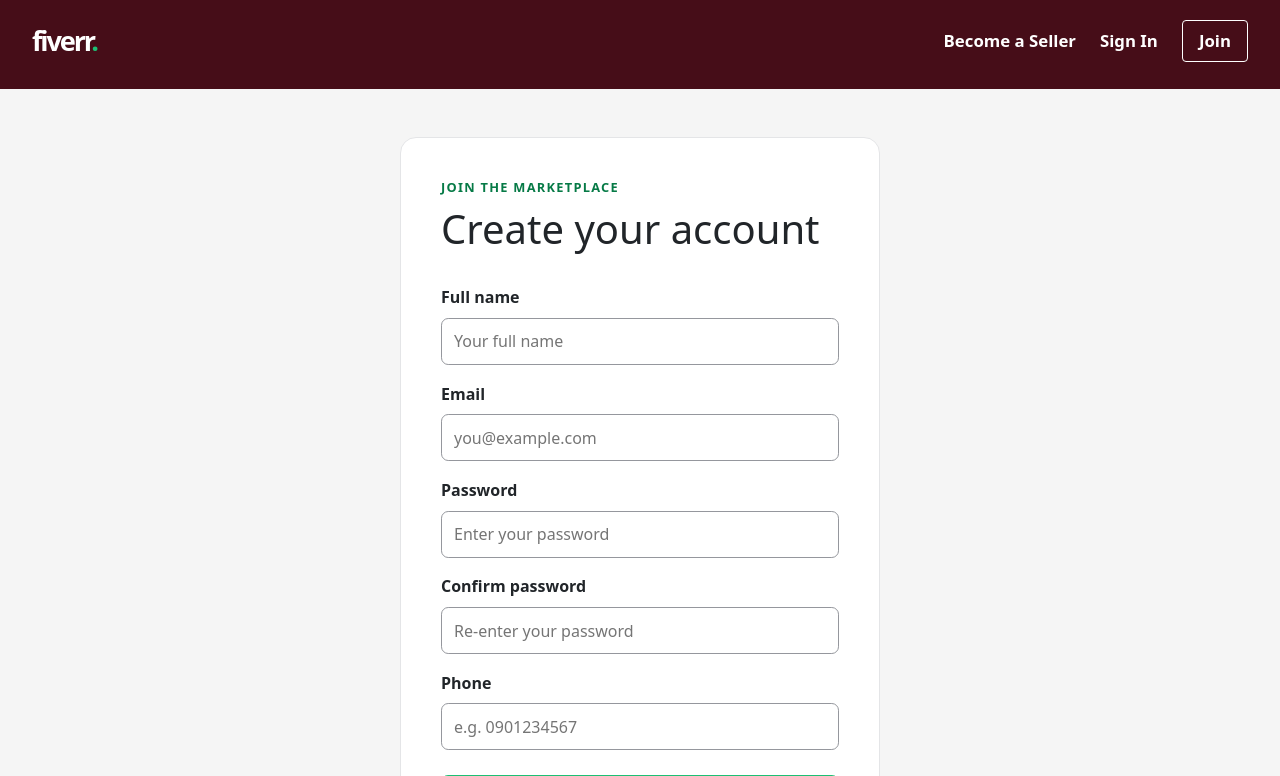
it: authentication routes › explains every invalid registration field and focuses the first one
Type "A" into the field labelled "Full name" at coordinates (640, 341), box x1=441 y1=318 x2=839 y2=365
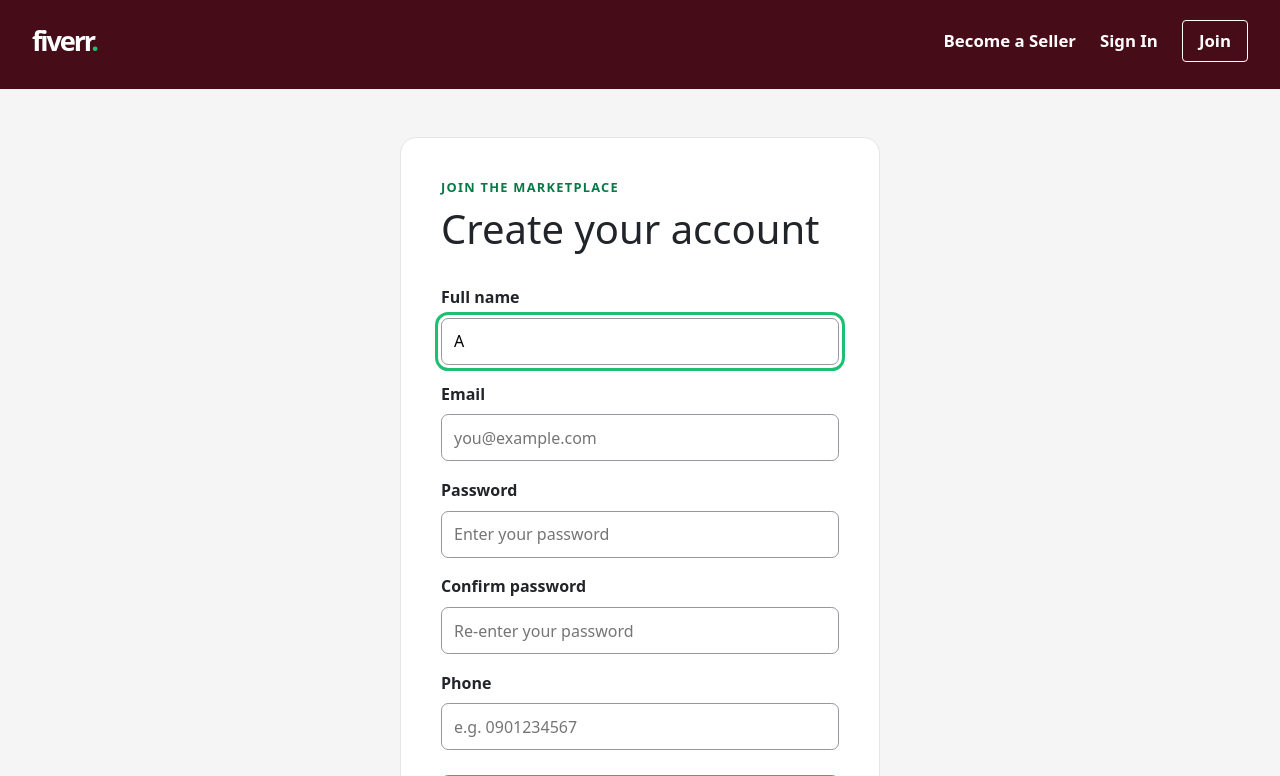
Type "not-an-email" into the field labelled "Email" at coordinates (640, 438), box x1=441 y1=414 x2=839 y2=461
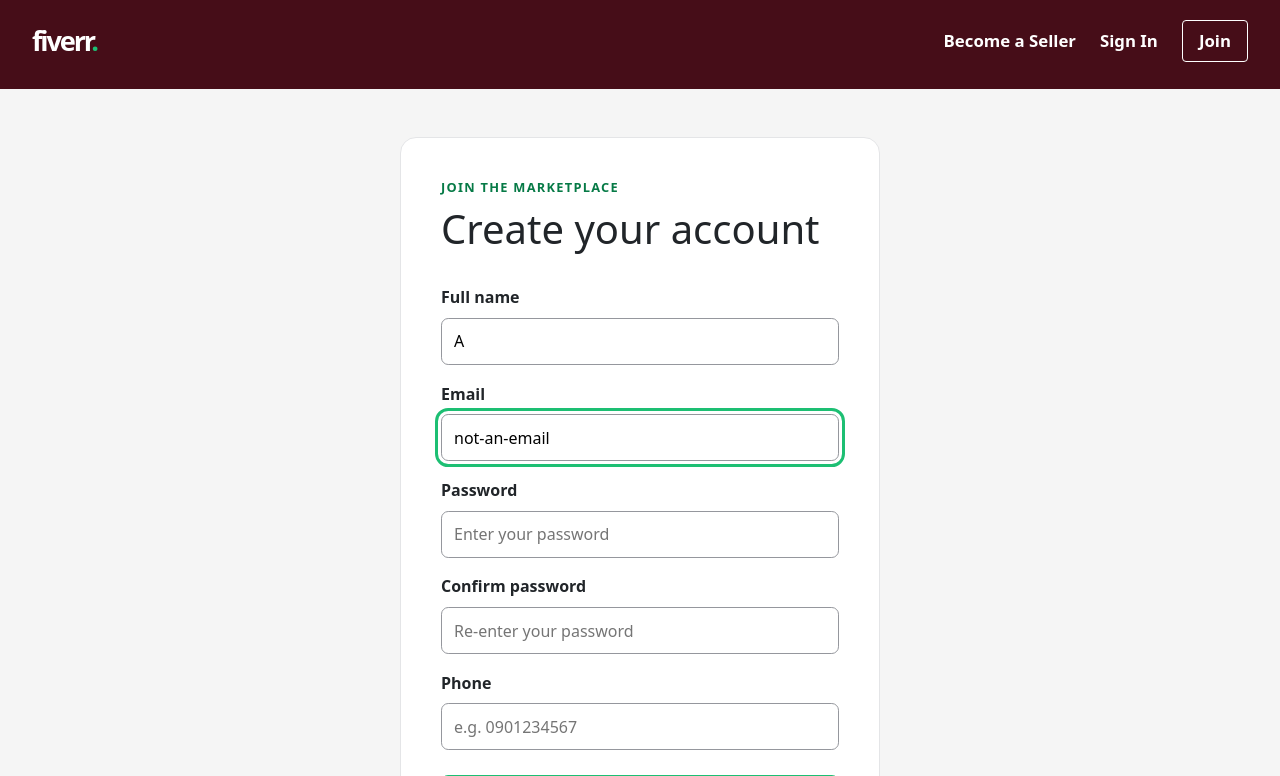
Type "123" into the password field labelled "Password" at coordinates (640, 534), box x1=441 y1=511 x2=839 y2=558
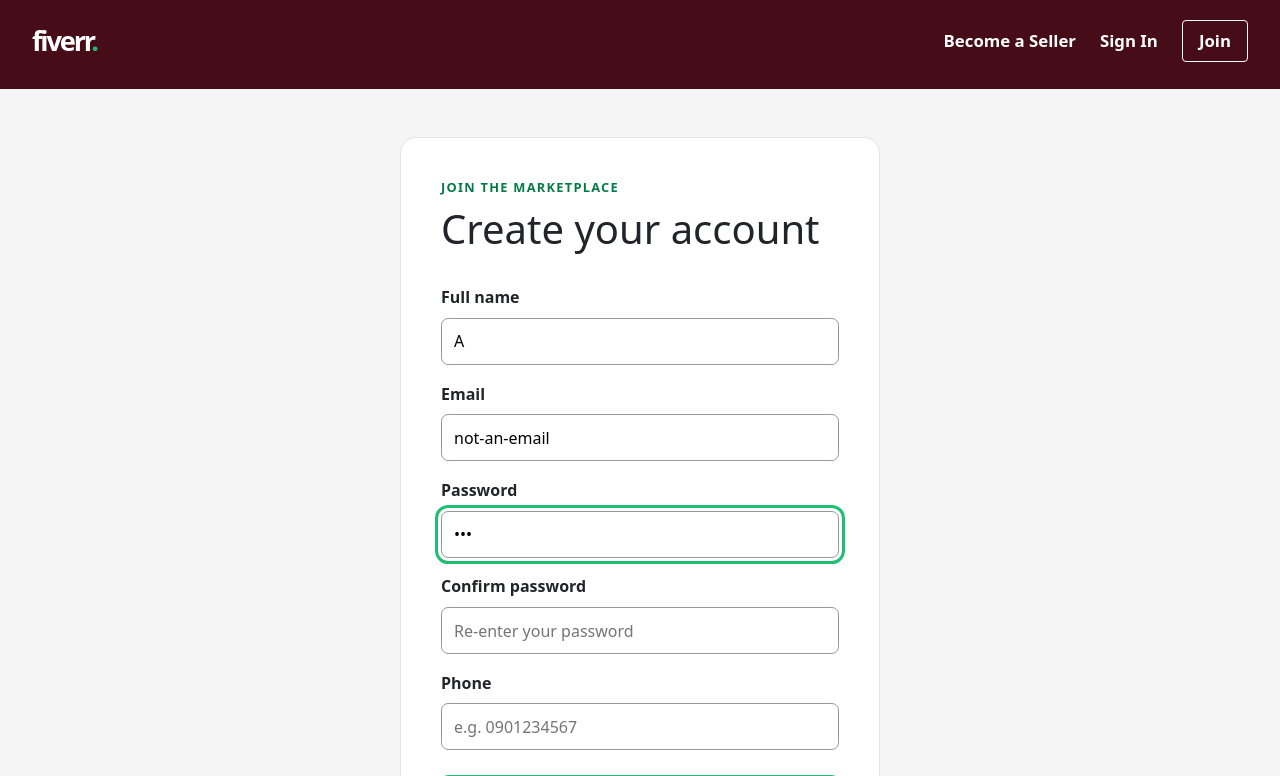
Type "different" into the password field labelled "Confirm password" at coordinates (640, 630), box x1=441 y1=607 x2=839 y2=654
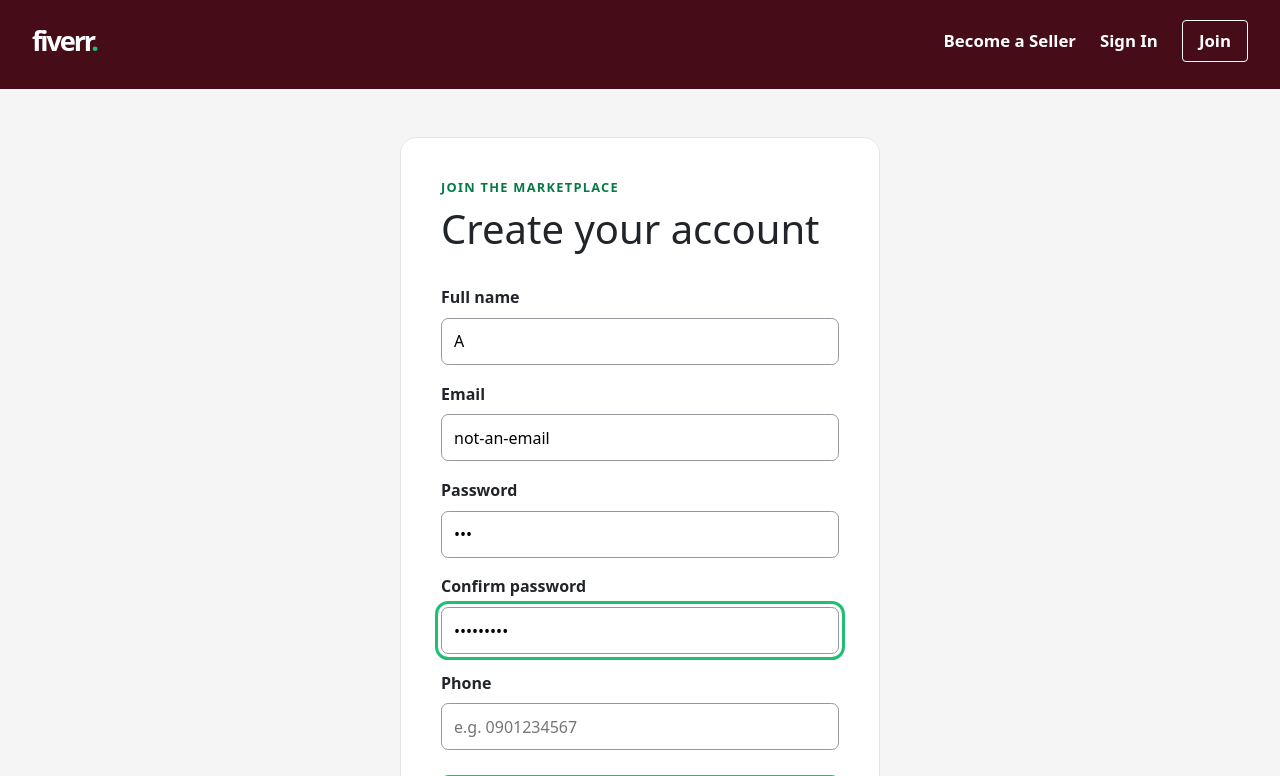
Type "12-34" into the field labelled "Phone" at coordinates (640, 727), box x1=441 y1=704 x2=839 y2=750
(page scrolled)
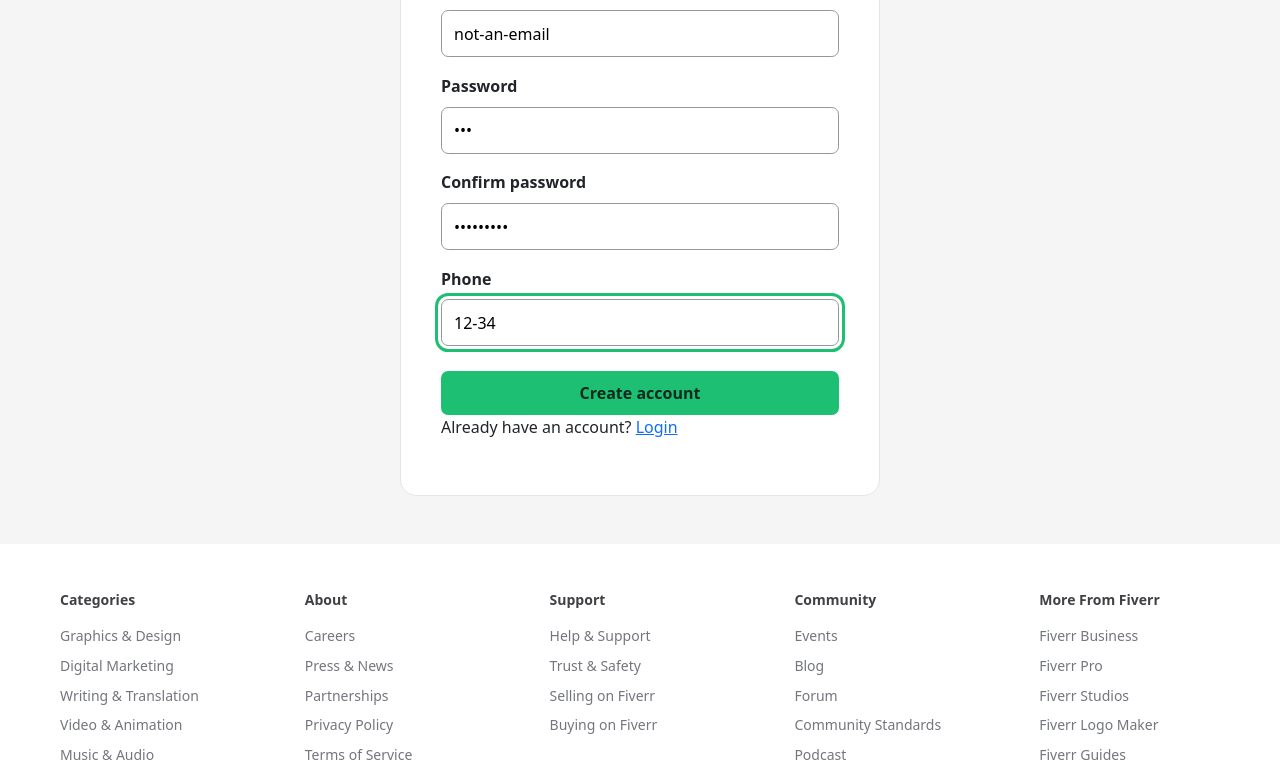
Click the button "Create account" at coordinates (640, 393), box x1=441 y1=371 x2=839 y2=415
(page scrolled)
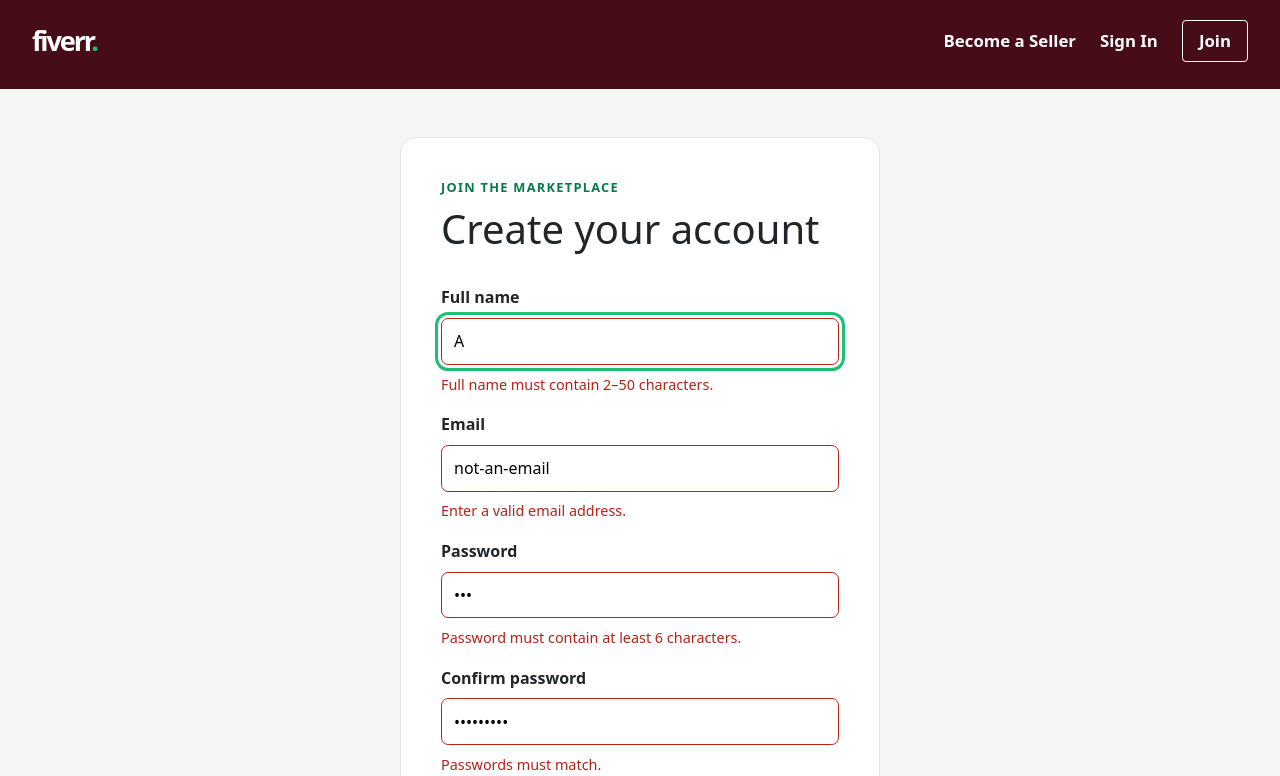
Check: the text "Full name must contain 2–50 characters." is shown, box x1=441 y1=375 x2=713 y2=394
Check: the text "Enter a valid email address." is shown, box x1=441 y1=501 x2=626 y2=520
Check: the text "Password must contain at least 6 characters." is shown, box x1=441 y1=628 x2=741 y2=647
